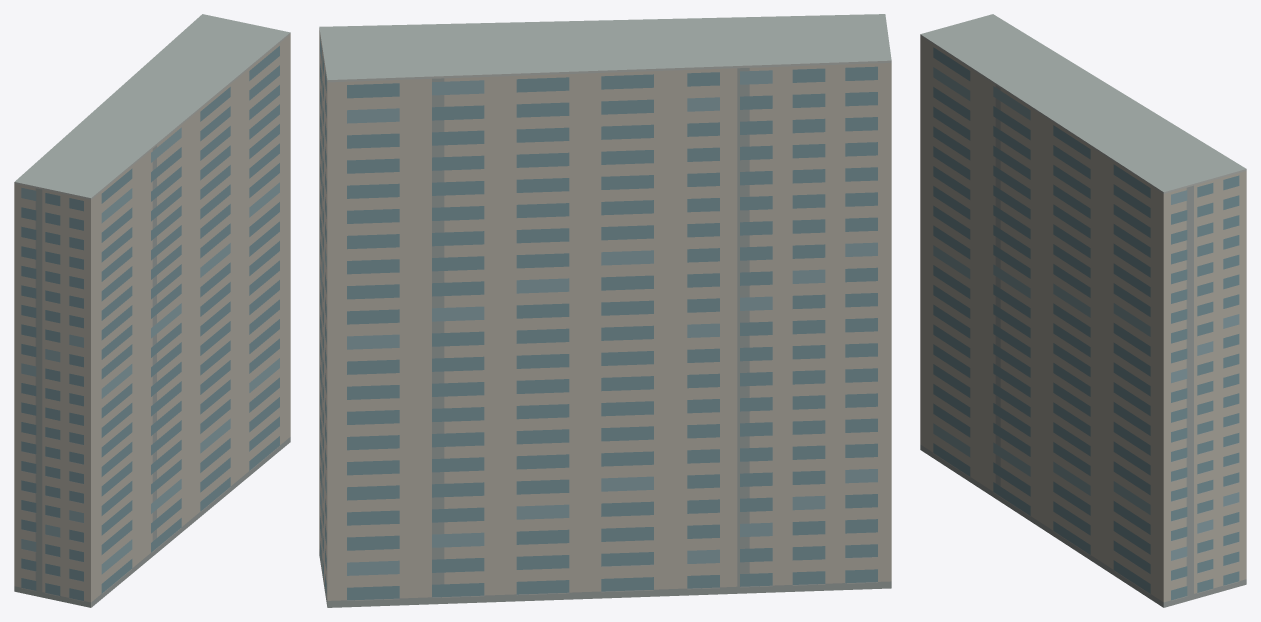
File: residential-c867e6c9-313f-4ea6-bea8-ace03df5ad37.glb
3 views of the same model, side by side, from view 1: azimuth 30°, elevation 25°; view 2: azimuth 150°, elevation 25°; view 3: azimuth 270°, elevation 25° (orthographic). The views are drawn at different scales.
Parts seen in each view (by area): view 1: residential-c867e6c9-313f-4ea6-bea8-ace03df5ad37.tmp; view 2: residential-c867e6c9-313f-4ea6-bea8-ace03df5ad37.tmp; view 3: residential-c867e6c9-313f-4ea6-bea8-ace03df5ad37.tmp.
Boxes of the visible parts, x1,y1,x2,y2 form: residential-c867e6c9-313f-4ea6-bea8-ace03df5ad37.tmp: (14, 14, 290, 607); residential-c867e6c9-313f-4ea6-bea8-ace03df5ad37.tmp: (319, 14, 891, 607); residential-c867e6c9-313f-4ea6-bea8-ace03df5ad37.tmp: (920, 14, 1246, 607).
Bounding box in the file's own units: 52.45 × 57 × 40.59.
